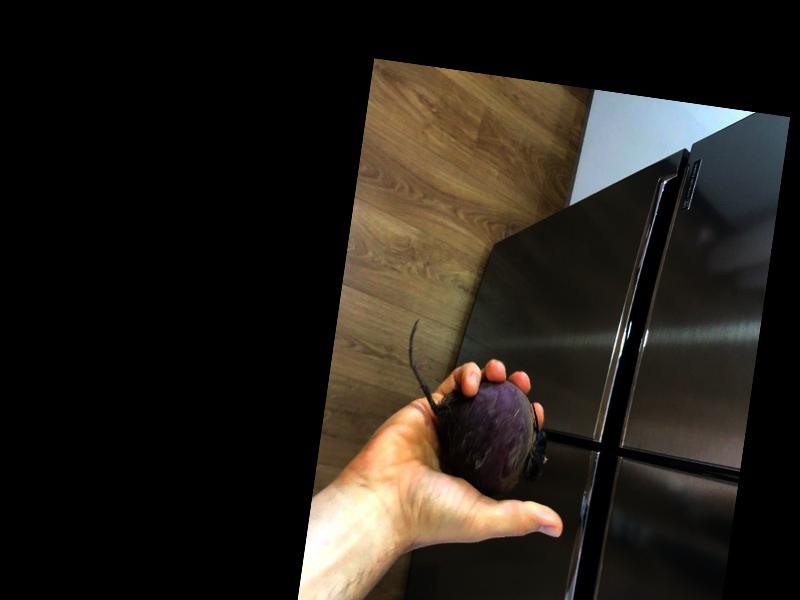Beet: (390, 318, 563, 503)
